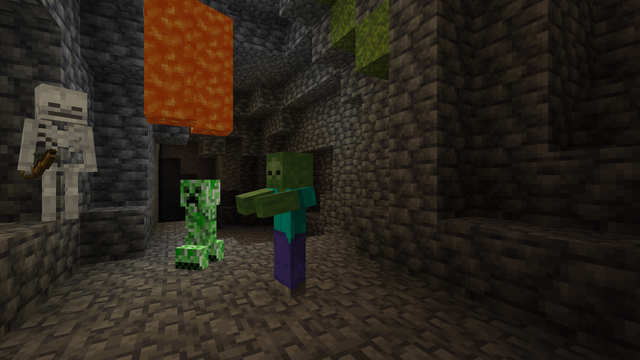creepers: (183, 175, 219, 269)
squelettes: (23, 82, 90, 223)
zombies: (263, 154, 316, 302)
